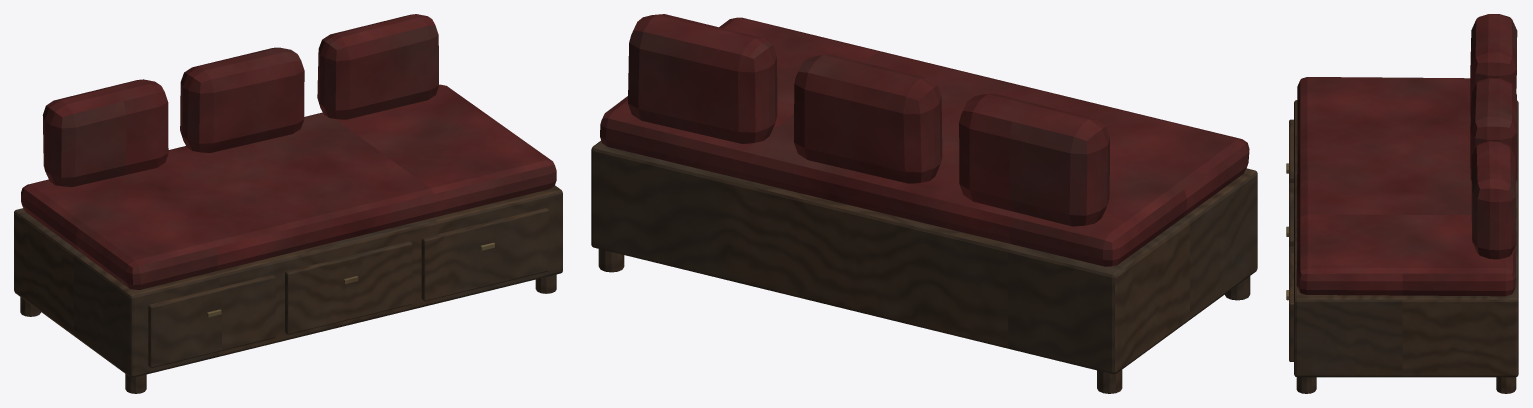
Rendered from L13_wooden_diwan.glb.
The picture shows the model from 3 angles, left to right: view 1: azimuth 30°, elevation 25°; view 2: azimuth 150°, elevation 25°; view 3: azimuth 270°, elevation 25°; orthographic projection. The views are drawn at different scales.
Visible parts, largest first — view 1: L13_wooden_diwan; view 2: L13_wooden_diwan; view 3: L13_wooden_diwan.
Part boxes in pixels (bbox=[...]): L13_wooden_diwan: bbox=[14, 14, 562, 393]; L13_wooden_diwan: bbox=[591, 14, 1257, 393]; L13_wooden_diwan: bbox=[1286, 14, 1518, 393].
Size of the model in its own units: 1.8 by 0.8308 by 0.882.
3 materials, 3 textured.
